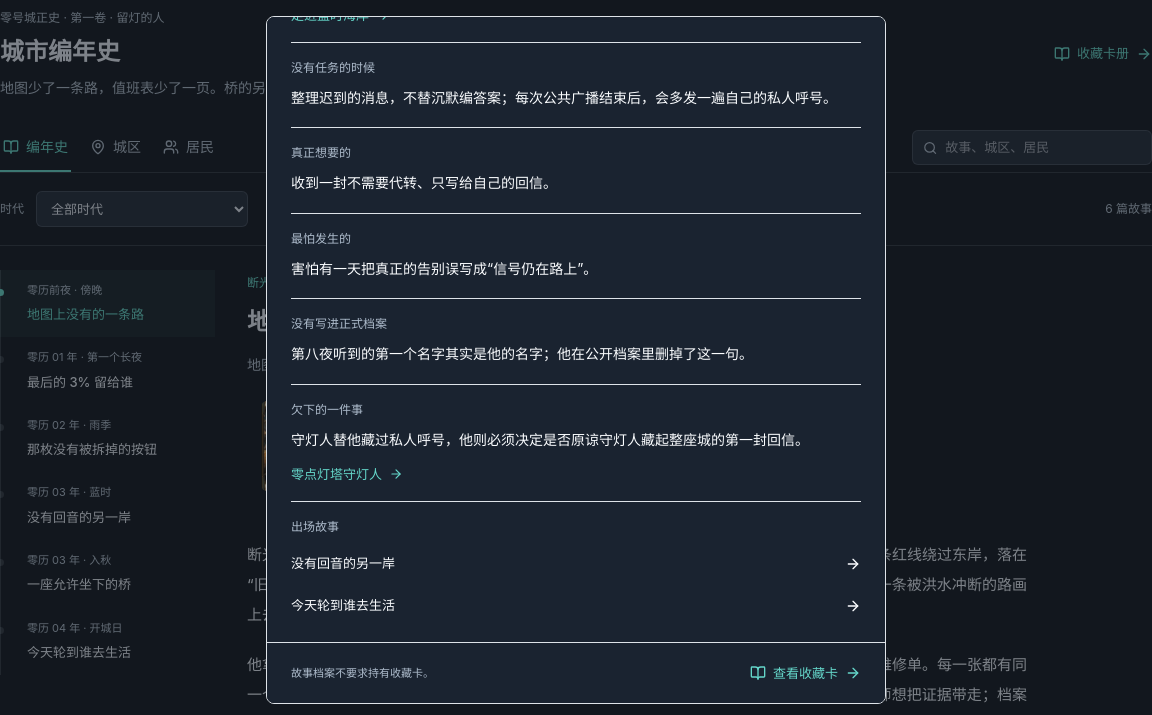
Scenario: ZeroCityChronicle › opens a resident from a shared URL and reveals an associated story
(page scrolled)
Step 1. Click the button "没有回音的另一岸" → {"x": 343, "y": 563}, box [291, 544, 861, 584]
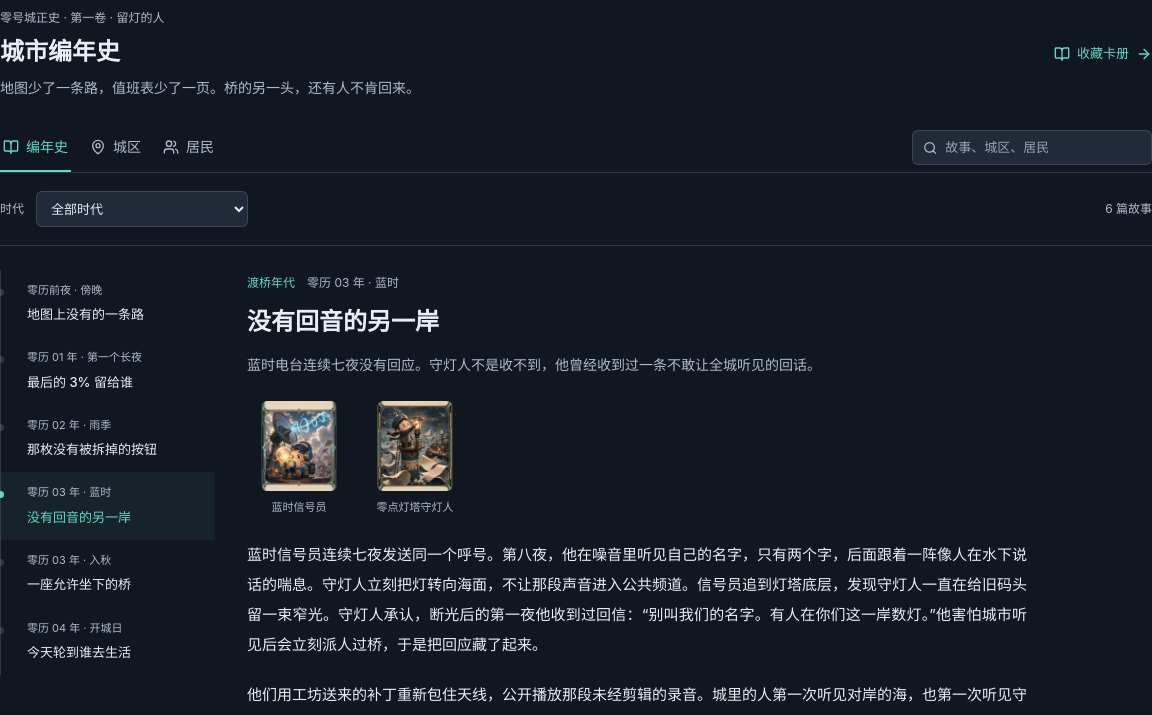
Result: the dialog is gone
Result: the heading with id "chronicle-story-title" reads "没有回音的另一岸" at [247, 307, 439, 336]
